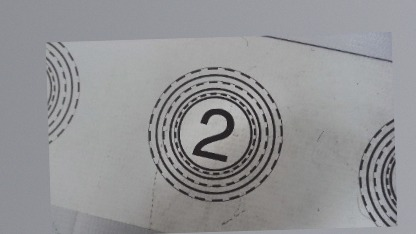2r: (140, 65, 286, 205)
